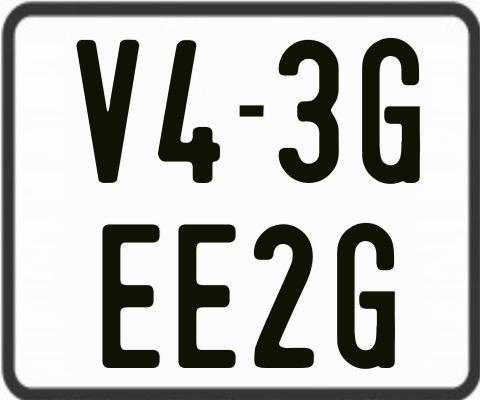2: (251, 221, 315, 370)
3: (277, 40, 338, 183)
4: (158, 40, 223, 189)
E: (175, 222, 239, 369), (99, 221, 162, 370)
G: (359, 37, 423, 183), (337, 221, 398, 371)
V: (76, 38, 140, 185)
